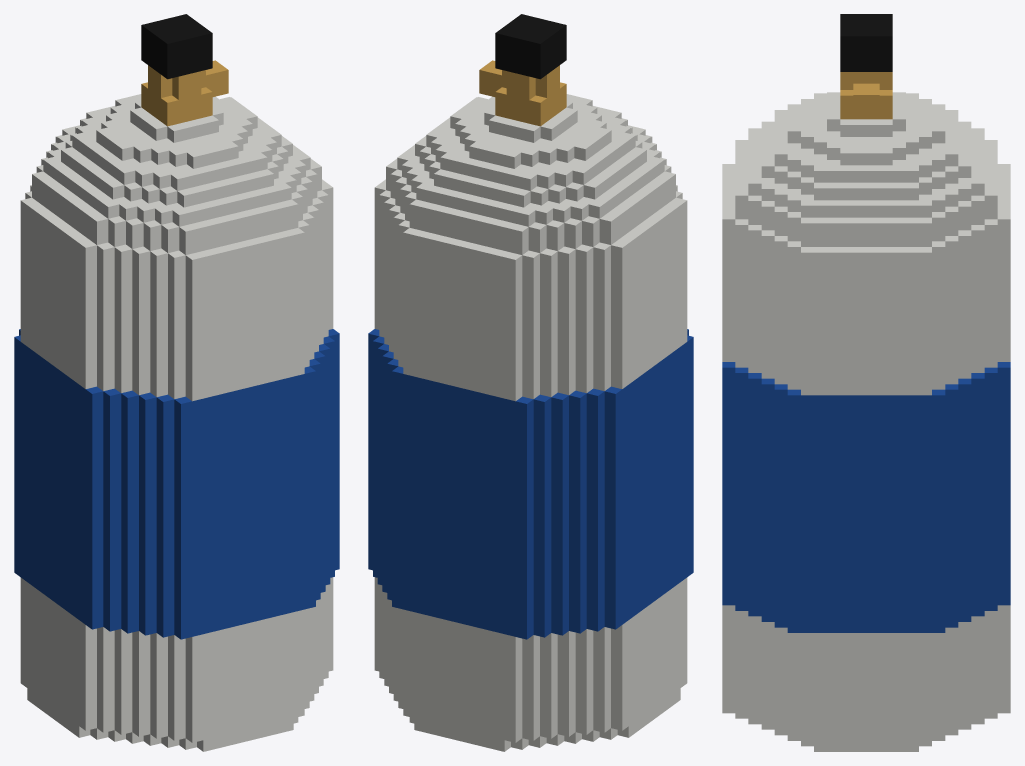
The model's file is refrigerant_tank.glb.
3 renders of one model, left to right at view 1: azimuth 30°, elevation 25°; view 2: azimuth 150°, elevation 25°; view 3: azimuth 270°, elevation 25°, orthographic.
Parts seen in each view (by area): view 1: refrigerant_tank:compound; view 2: refrigerant_tank:compound; view 3: refrigerant_tank:compound.
Part boxes in pixels (x1=…): refrigerant_tank:compound: x1=14, y1=14, x2=339, y2=751; refrigerant_tank:compound: x1=368, y1=14, x2=693, y2=751; refrigerant_tank:compound: x1=722, y1=14, x2=1010, y2=751.
Bounding box in the file's own units: 0.088 × 0.224 × 0.088.
